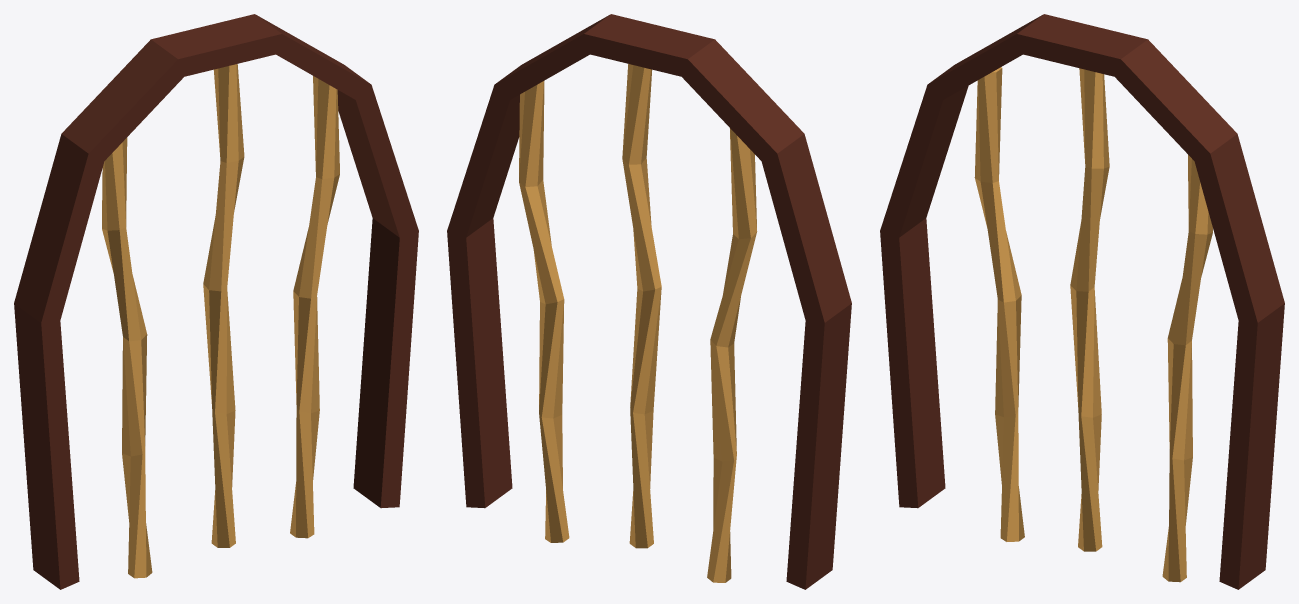
File: chairBack.glb
3 renders of one model, left to right at view 1: azimuth 30°, elevation 25°; view 2: azimuth 150°, elevation 25°; view 3: azimuth 330°, elevation 25°, orthographic.
Visible parts, largest first — view 1: NurbsPath, Cylinder.001, Cylinder; view 2: NurbsPath, Cylinder.001, Cylinder; view 3: NurbsPath, Cylinder.001, Cylinder.
Part boxes in pixels (bbox=[...]): NurbsPath: bbox=[14, 14, 418, 589]; Cylinder.001: bbox=[102, 76, 339, 578]; Cylinder: bbox=[203, 64, 244, 547]; NurbsPath: bbox=[447, 14, 851, 589]; Cylinder.001: bbox=[519, 81, 757, 582]; Cylinder: bbox=[622, 64, 661, 548]; NurbsPath: bbox=[880, 14, 1284, 589]; Cylinder.001: bbox=[974, 67, 1212, 582]; Cylinder: bbox=[1070, 68, 1109, 551].
Size of the model in its own units: 0.4324 by 0.5708 by 0.0539.
